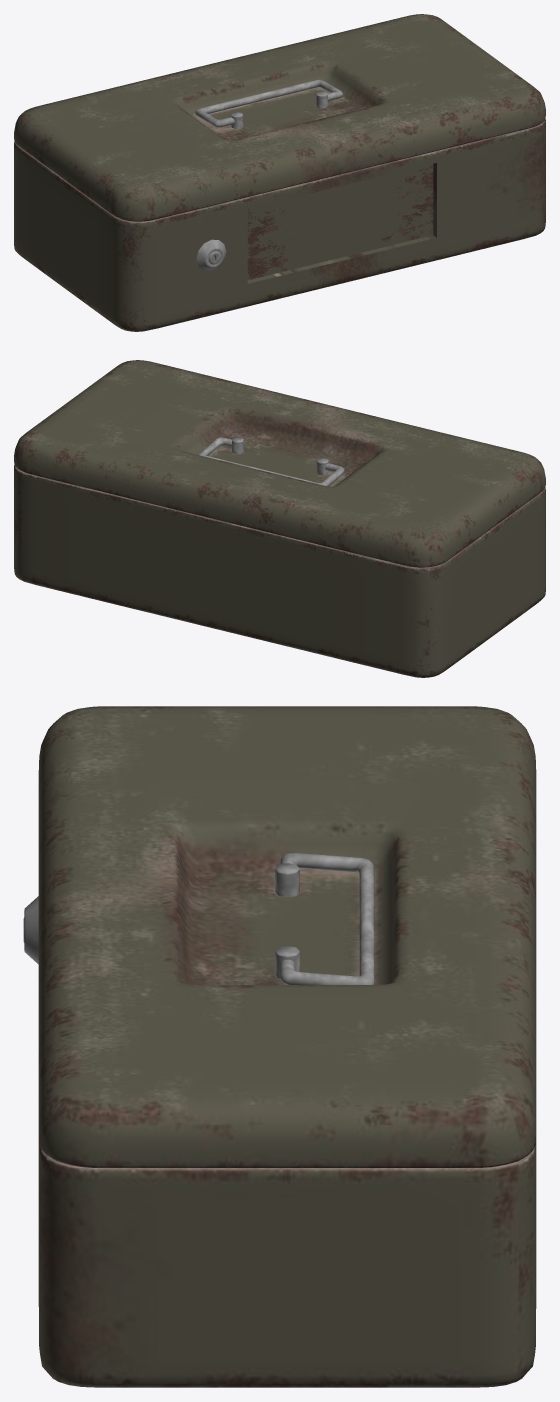
The model's file is CashBox.fbx.
The picture shows the model from 3 angles, top to bottom: view 1: azimuth 30°, elevation 25°; view 2: azimuth 150°, elevation 25°; view 3: azimuth 270°, elevation 25°; orthographic projection. The views are drawn at different scales.
Visible parts, largest first — view 1: Elbow Joint.001_cash box_0.001, Elbow Joint.001; view 2: Elbow Joint.001_cash box_0.001, Elbow Joint.001; view 3: Elbow Joint.001_cash box_0.001, Elbow Joint.001.
Boxes of the visible parts, box(x1,y1,x2,y2) form: Elbow Joint.001_cash box_0.001: box(14, 14, 545, 221); Elbow Joint.001: box(14, 118, 545, 331); Elbow Joint.001_cash box_0.001: box(14, 360, 545, 567); Elbow Joint.001: box(14, 464, 545, 677); Elbow Joint.001_cash box_0.001: box(38, 706, 536, 1167); Elbow Joint.001: box(23, 896, 536, 1387).
Size of the model in its own units: 547 by 171 by 283.
1 material, 1 textured.
